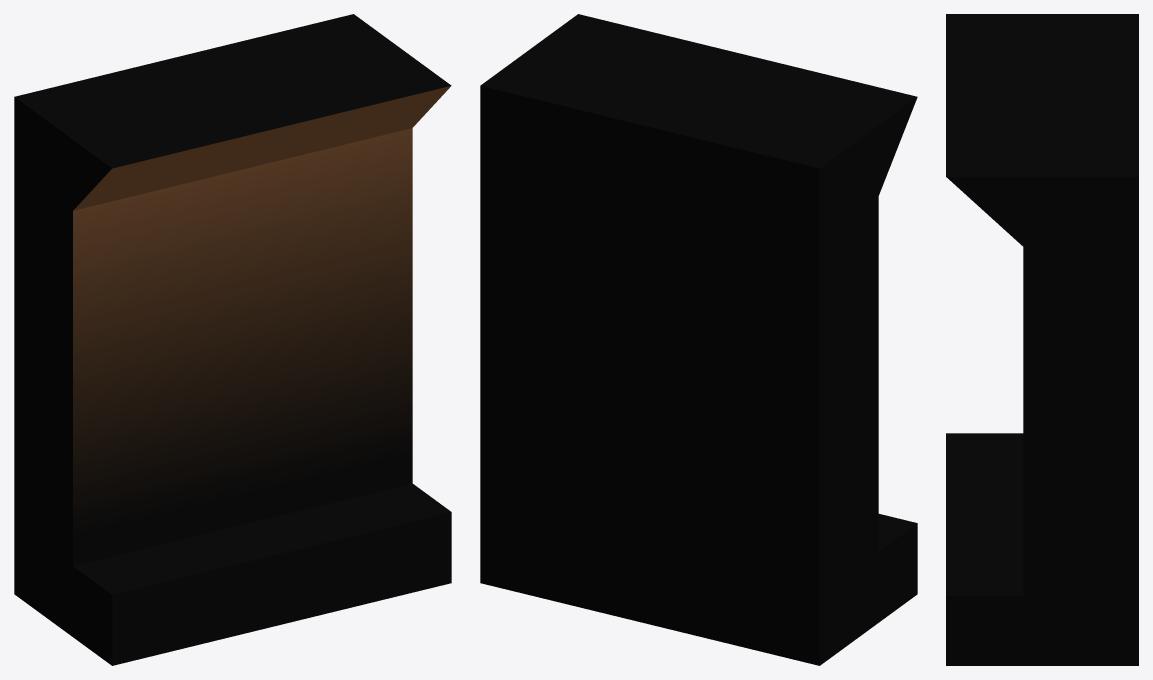
File: hole_wall.FBX
The picture shows the model from 3 angles, left to right: view 1: azimuth 30°, elevation 25°; view 2: azimuth 150°, elevation 25°; view 3: azimuth 270°, elevation 25°; orthographic projection.
Parts seen in each view (by area): view 1: hole_wall, hole_Box000, hole_wall_trim; view 2: hole_wall, hole_wall_trim, hole_Box000; view 3: hole_wall, hole_Box000, hole_wall_trim.
Part boxes in pixels (bbox=[...]): hole_wall: bbox=[14, 14, 412, 636]; hole_Box000: bbox=[73, 483, 451, 665]; hole_wall_trim: bbox=[73, 57, 451, 210]; hole_wall: bbox=[480, 42, 878, 665]; hole_wall_trim: bbox=[539, 14, 917, 195]; hole_Box000: bbox=[878, 514, 917, 622]; hole_wall: bbox=[1023, 14, 1138, 665]; hole_Box000: bbox=[946, 433, 1023, 665]; hole_wall_trim: bbox=[946, 14, 1023, 246].
Bounding box in the file's own units: 100 × 140 × 50.
